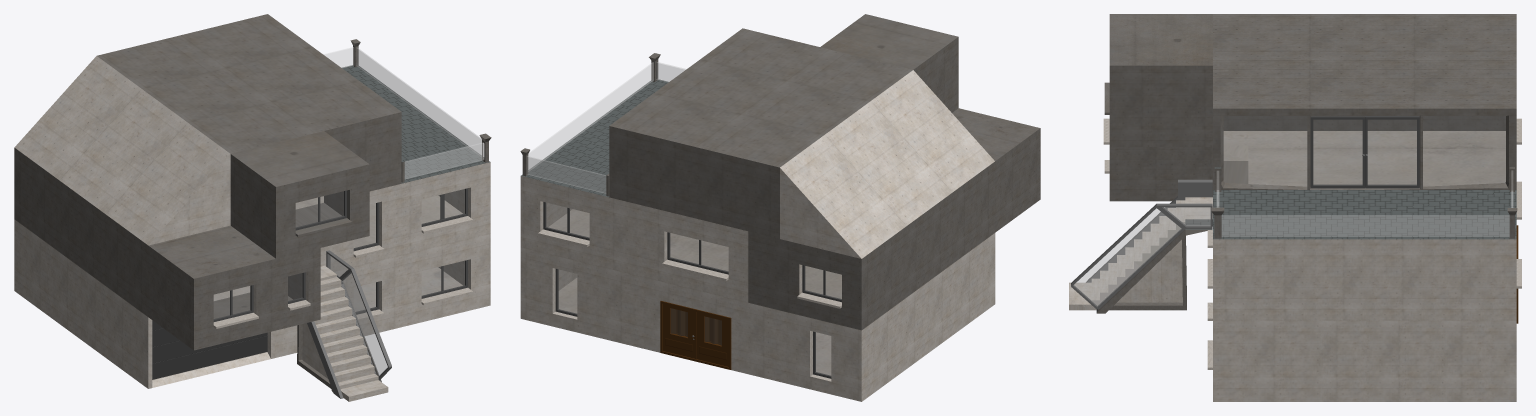
3 renders of one model, left to right at view 1: azimuth 30°, elevation 25°; view 2: azimuth 150°, elevation 25°; view 3: azimuth 270°, elevation 25°, orthographic. The views are drawn at different scales.
Parts seen in each view (by area): view 1: Partie1; view 2: Partie1; view 3: Partie1.
Boxes of the visible parts, box(x1,y1,x2,y2) form: Partie1: box(14, 14, 491, 401); Partie1: box(520, 14, 1040, 401); Partie1: box(1069, 14, 1521, 401).
Size of the model in its own units: 17.39 by 10.45 by 17.55.
10 materials, 3 textured.
